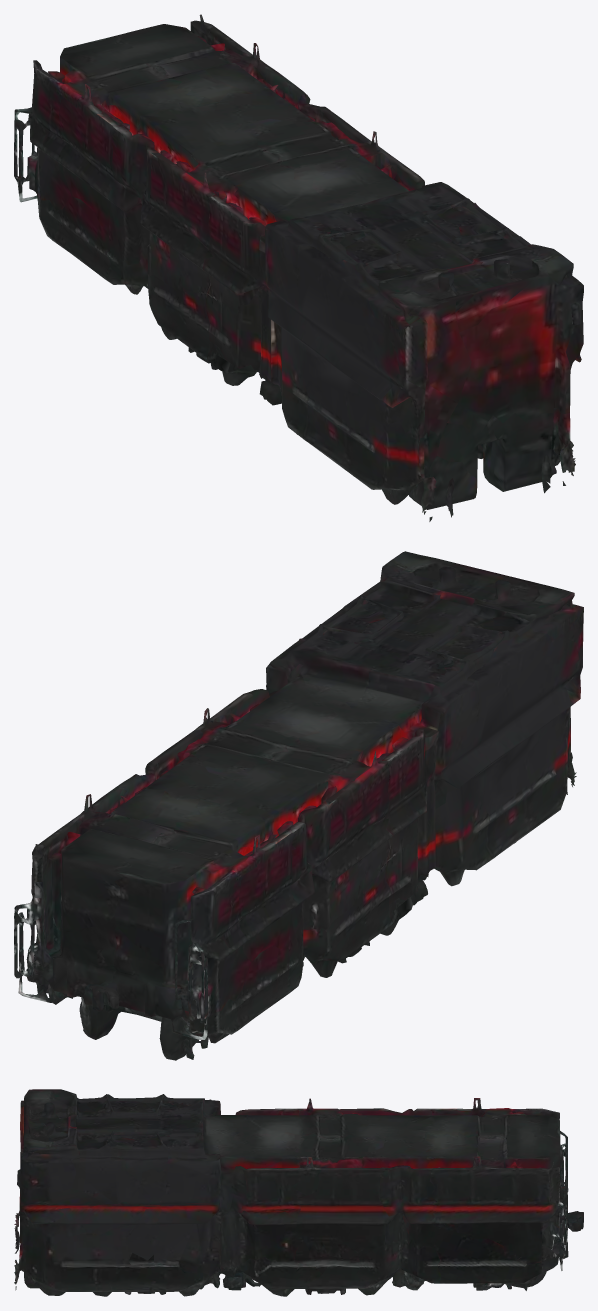
The model's file is tr-umb-b.glb.
The picture shows the model from 3 angles, top to bottom: view 1: azimuth 30°, elevation 25°; view 2: azimuth 150°, elevation 25°; view 3: azimuth 270°, elevation 25°; orthographic projection. The views are drawn at different scales.
Visible parts, largest first — view 1: bunit; view 2: bunit; view 3: bunit.
Boxes of the visible parts, x1,y1,x2,y2 form: bunit: (14,14,583,521); bunit: (14,551,583,1060); bunit: (14,1089,583,1296).
Size of the model in its own units: 0.2614 by 0.299 by 0.9517.
Materials: 1 (1 with a texture image).
